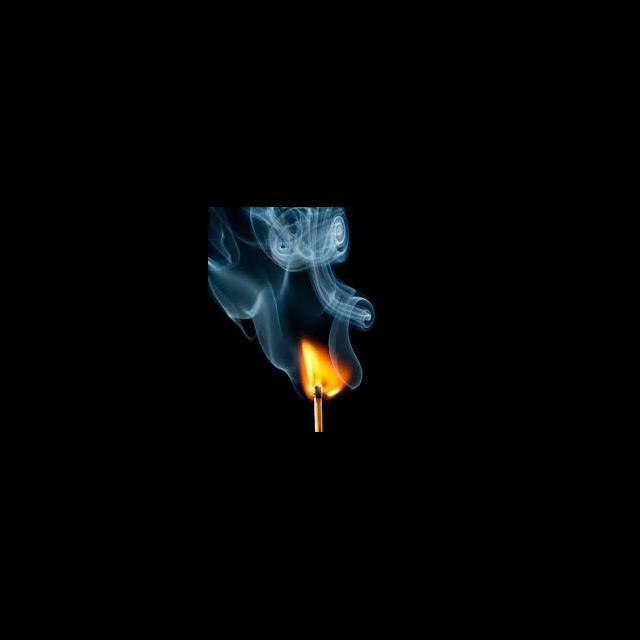Fire: (295, 338, 355, 402)
Smoke: (208, 208, 366, 326)
